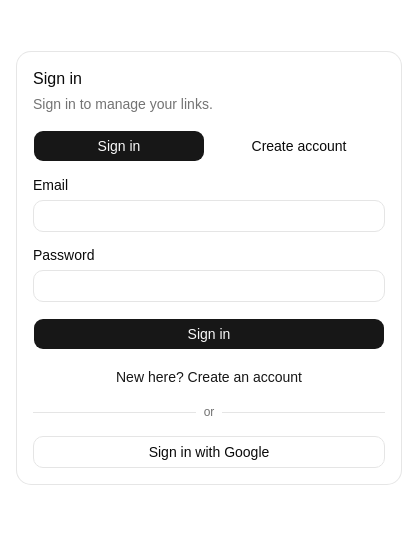
it: LoginPage › flips the toggle via the cross-links under each form
Click the button "New here? Create an account" at (209, 377), box [115, 366, 303, 388]
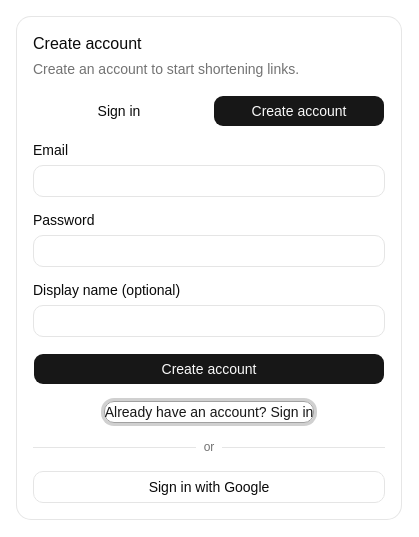
expect the field labelled "Display name (optional)" is shown: met, box [33, 305, 385, 337]
Click the button "Already have an account? Sign in" at (209, 412), box [104, 401, 314, 423]
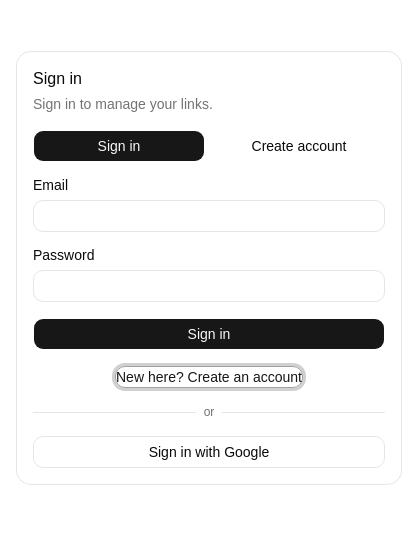
expect the label labelled "Display name (optional)" is gone: met
